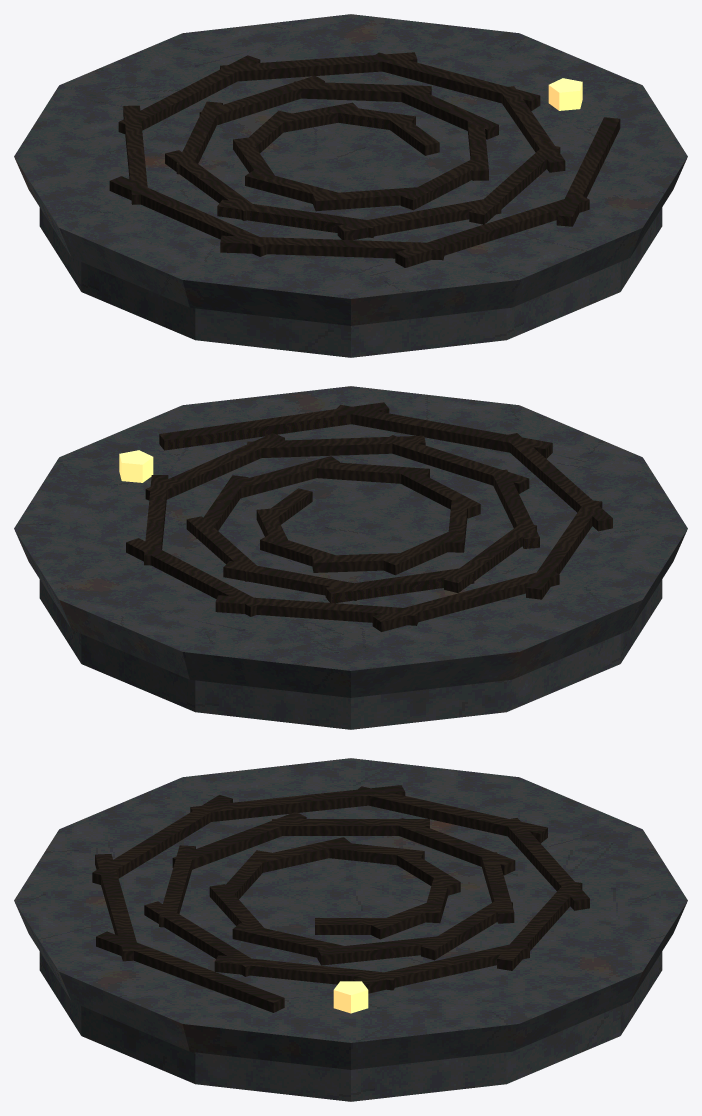
File: coil_incense.glb
3 views of the same model, one above another, from view 1: azimuth 30°, elevation 25°; view 2: azimuth 150°, elevation 25°; view 3: azimuth 270°, elevation 25° (orthographic).
Visible parts, largest first — view 1: coil_incense; view 2: coil_incense; view 3: coil_incense.
Part boxes in pixels (x1,y1,x2,y2): coil_incense: (14,14,687,357); coil_incense: (14,386,687,729); coil_incense: (14,758,687,1101).
Size of the model in its own units: 0.184 by 0.0265 by 0.184.
4 materials, 3 textured.
